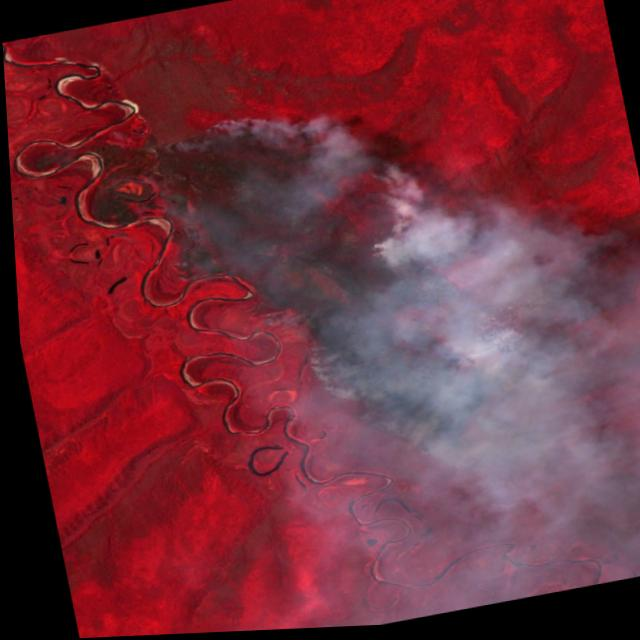fire: (106, 68, 545, 519)
